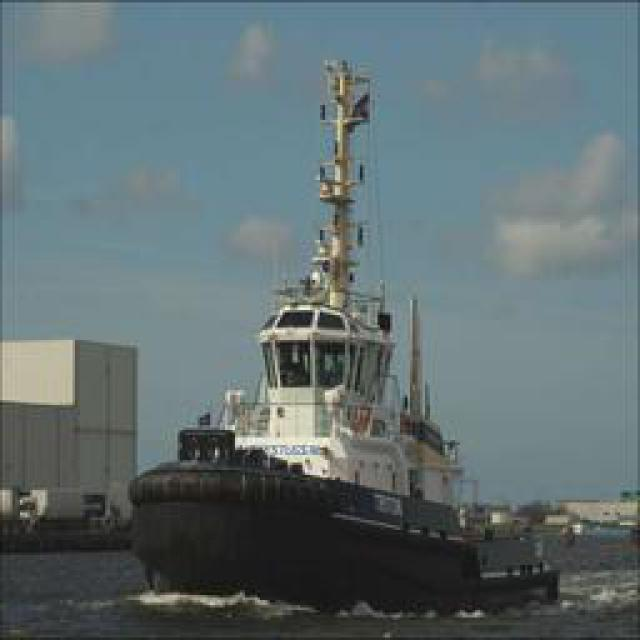Ship: (130, 40, 500, 595)
